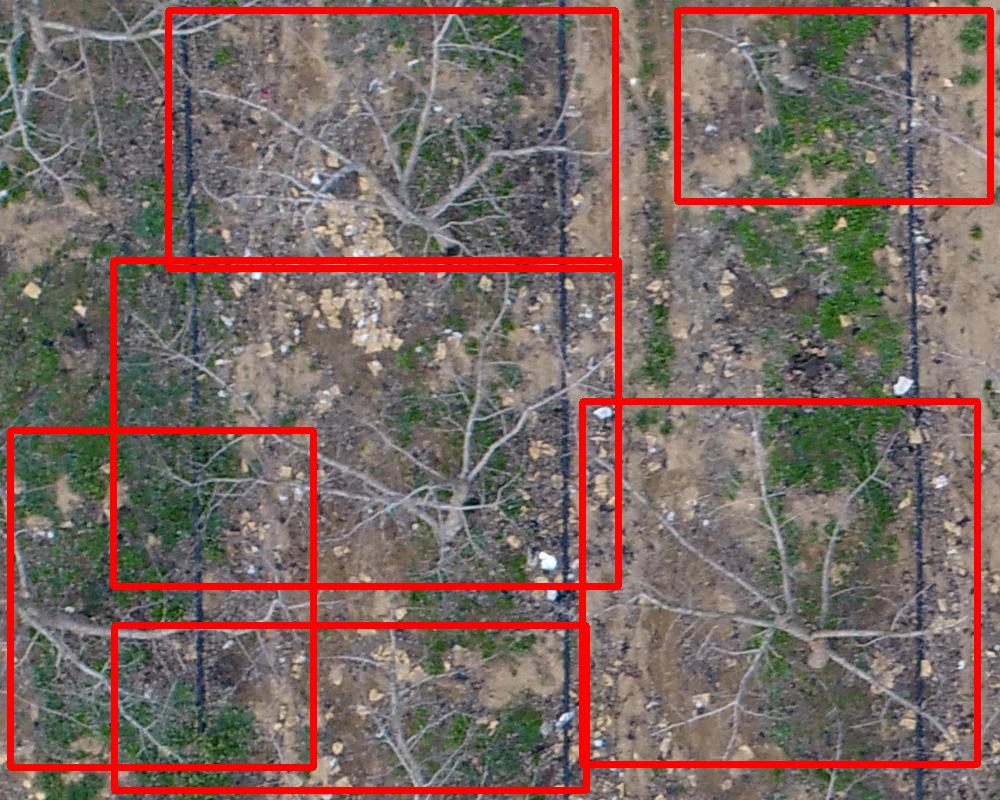apple: (113, 260, 618, 586), (582, 401, 977, 764), (168, 10, 615, 268), (10, 430, 313, 767), (114, 625, 586, 790), (677, 10, 990, 201)
